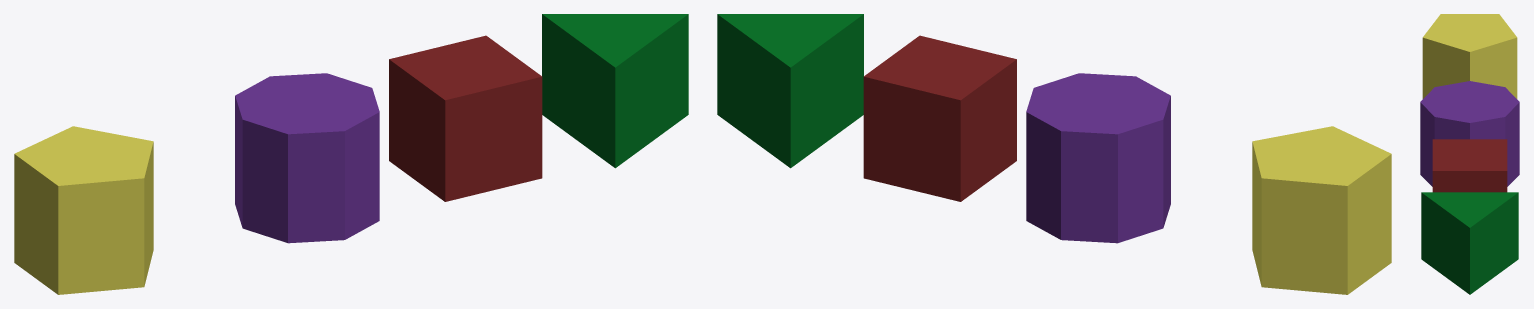
The model's file is ToyBlocks.fbx.
The picture shows the model from 3 angles, left to right: view 1: azimuth 30°, elevation 25°; view 2: azimuth 150°, elevation 25°; view 3: azimuth 270°, elevation 25°; orthographic projection. The views are drawn at different scales.
Parts seen in each view (by area): view 1: OctoBlock, Cube, PentaBlock, TriBlock; view 2: OctoBlock, Cube, PentaBlock, TriBlock; view 3: TriBlock, PentaBlock, OctoBlock, Cube.
Boxes of the visible parts, left/top/right/bottom form: OctoBlock: left=235, top=73, right=379, bottom=243; Cube: left=389, top=35, right=542, bottom=201; PentaBlock: left=14, top=126, right=153, bottom=294; TriBlock: left=542, top=14, right=688, bottom=168; OctoBlock: left=1026, top=73, right=1170, bottom=243; Cube: left=863, top=35, right=1016, bottom=201; PentaBlock: left=1252, top=126, right=1391, bottom=294; TriBlock: left=717, top=14, right=863, bottom=168; TriBlock: left=1421, top=192, right=1518, bottom=294; PentaBlock: left=1422, top=14, right=1517, bottom=98; OctoBlock: left=1420, top=81, right=1519, bottom=186; Cube: left=1432, top=139, right=1507, bottom=192.
Size of the model in its own units: 0.824 by 0.1315 by 0.1638.
